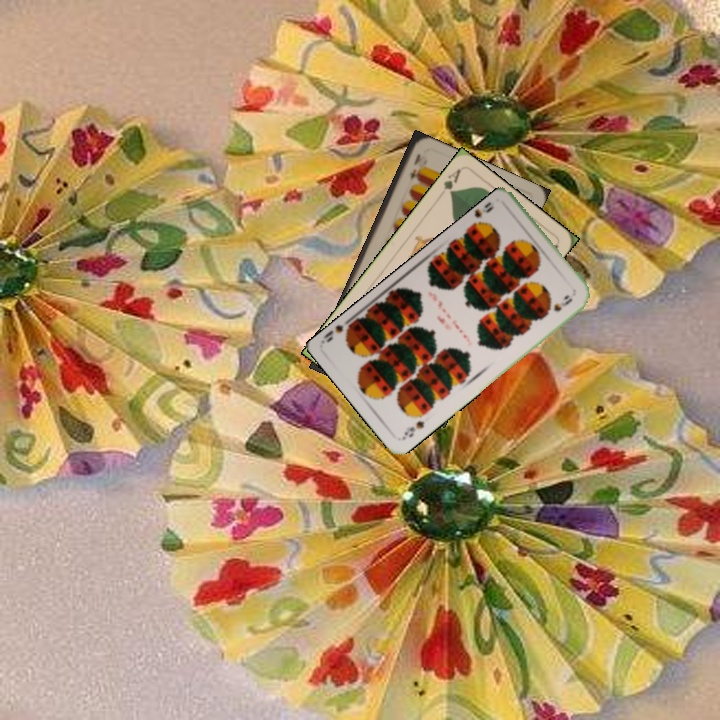E10: (405, 150, 423, 184)
GA: (439, 165, 463, 198)
S9: (468, 199, 496, 233), (399, 417, 427, 442)
